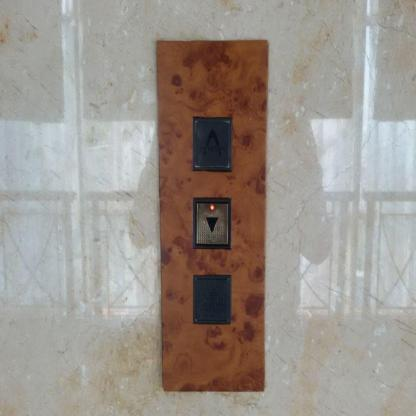down: (191, 194, 231, 251)
empty: (190, 271, 232, 325)
up: (190, 113, 234, 173)
